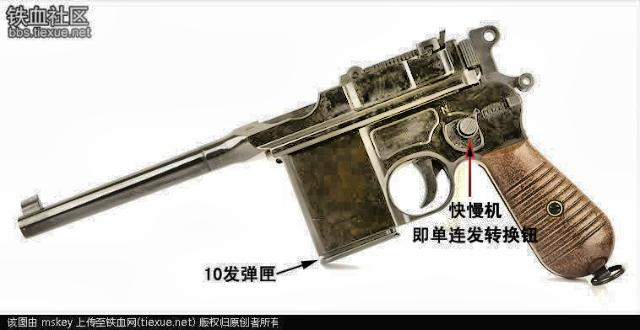pistol: (18, 25, 622, 289)
